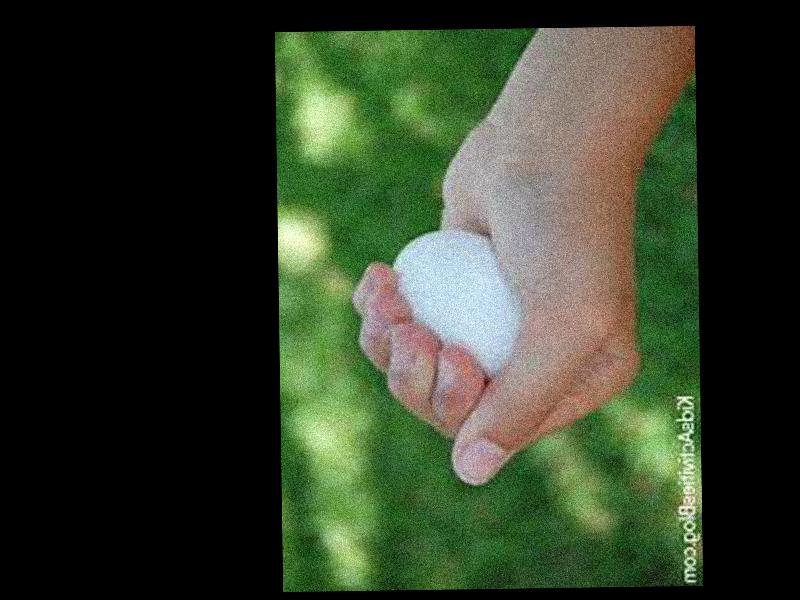Eggs: (392, 228, 514, 381)
